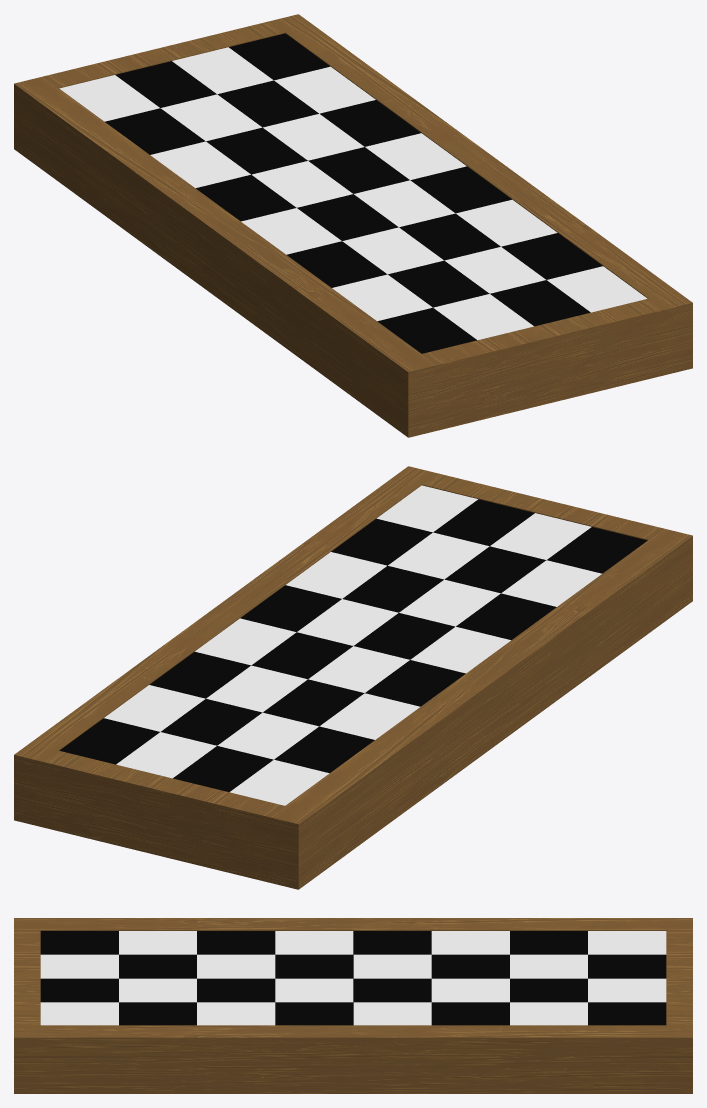
Rendered from Startline.fbx.
3 views of the same model, one above another, from view 1: azimuth 30°, elevation 25°; view 2: azimuth 150°, elevation 25°; view 3: azimuth 270°, elevation 25° (orthographic). The views are drawn at different scales.
Parts seen in each view (by area): view 1: Grid, Frame; view 2: Grid, Frame; view 3: Frame, Grid.
Part boxes in pixels (x1=…): Grid: x1=59, y1=33, x2=647, y2=353; Frame: x1=14, y1=14, x2=692, y2=437; Grid: x1=59, y1=485, x2=647, y2=805; Frame: x1=14, y1=466, x2=692, y2=889; Frame: x1=14, y1=918, x2=692, y2=1093; Grid: x1=40, y1=931, x2=666, y2=1025.
Size of the model in its own units: 460 by 1105 by 101.
